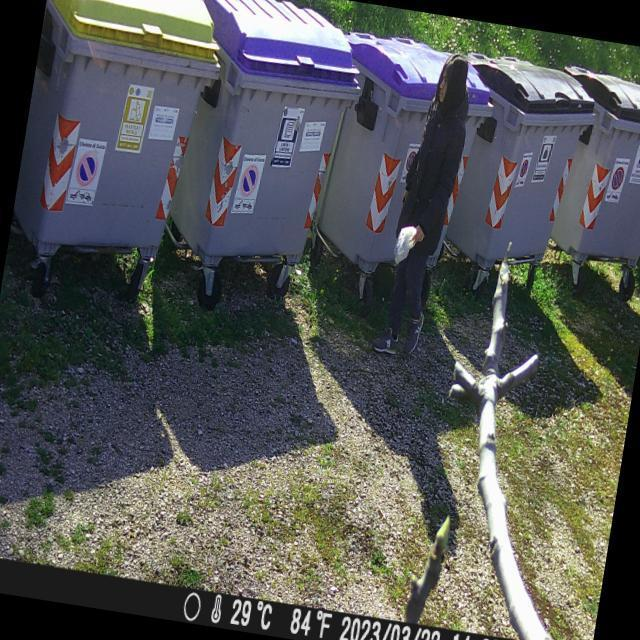garbage: (390, 219, 422, 272)
